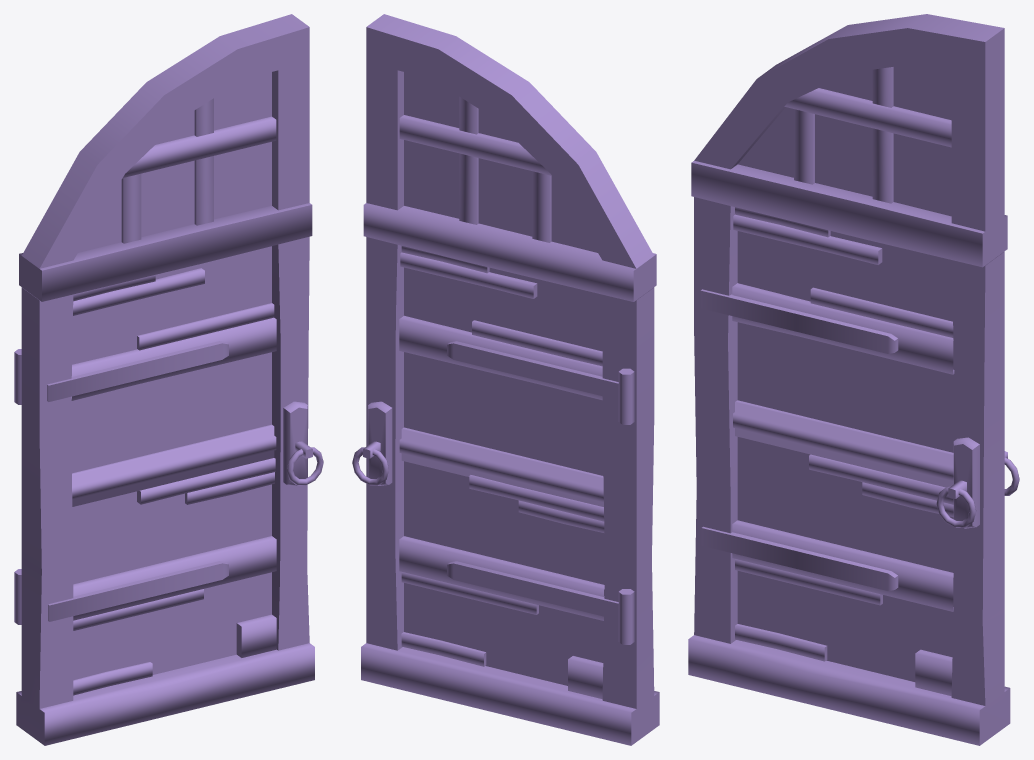
File: gate_a_wing_right.fbx
The picture shows the model from 3 angles, left to right: view 1: azimuth 30°, elevation 25°; view 2: azimuth 150°, elevation 25°; view 3: azimuth 330°, elevation 25°; orthographic projection. The views are drawn at different scales.
Parts seen in each view (by area): view 1: Plane.000; view 2: Plane.000; view 3: Plane.000.
Boxes of the visible parts, left/top/right/bottom form: Plane.000: left=14, top=14, right=323, bottom=745; Plane.000: left=352, top=14, right=659, bottom=745; Plane.000: left=688, top=14, right=1019, bottom=745.
Size of the model in its own units: 1.79 by 4.05 by 0.5475.
